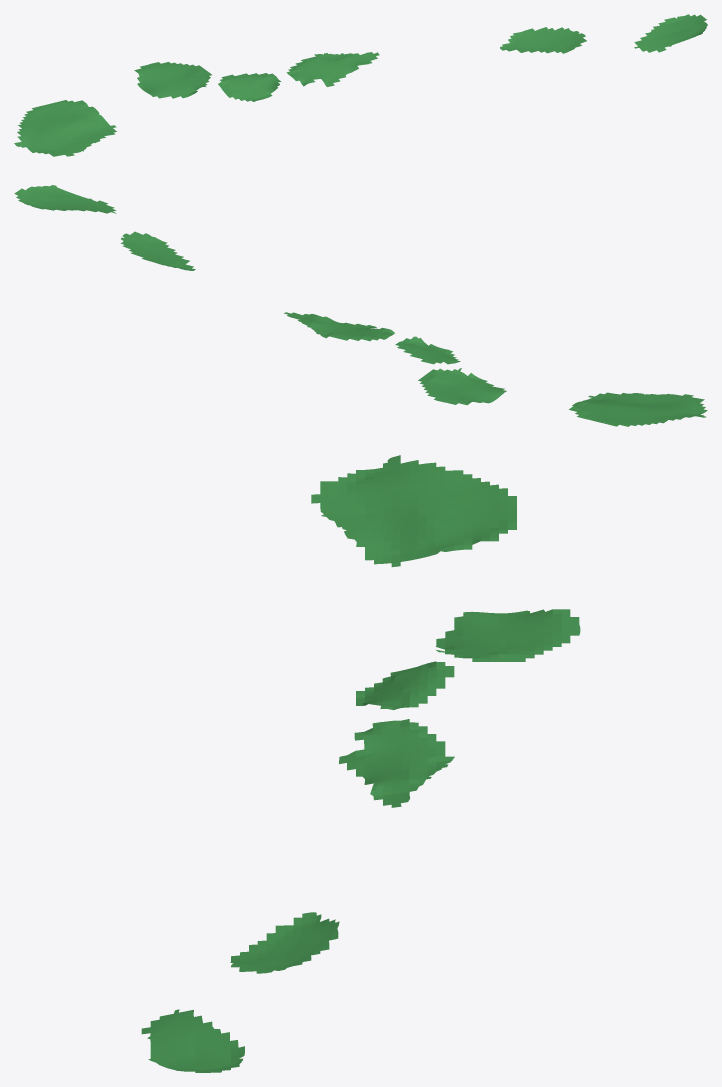
Rendered from map-beach.fbx.
3 views of the same model, one above another, from view 1: azimuth 30°, elevation 25°; view 2: azimuth 150°, elevation 25°; view 3: azimuth 270°, elevation 25° (orthographic). The views are drawn at different scales.
Visible parts, largest first — view 1: map_export.001; view 2: map_export.001; view 3: map_export.001.
Boxes of the visible parts, bbox=[...] form: map_export.001: bbox=[14, 14, 707, 156]; map_export.001: bbox=[14, 185, 707, 426]; map_export.001: bbox=[141, 455, 580, 1072].
Size of the model in its own units: 7182 by 129 by 2124.
